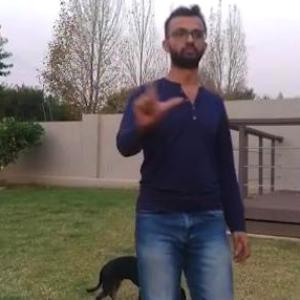land_hand: (127, 66, 182, 126)
